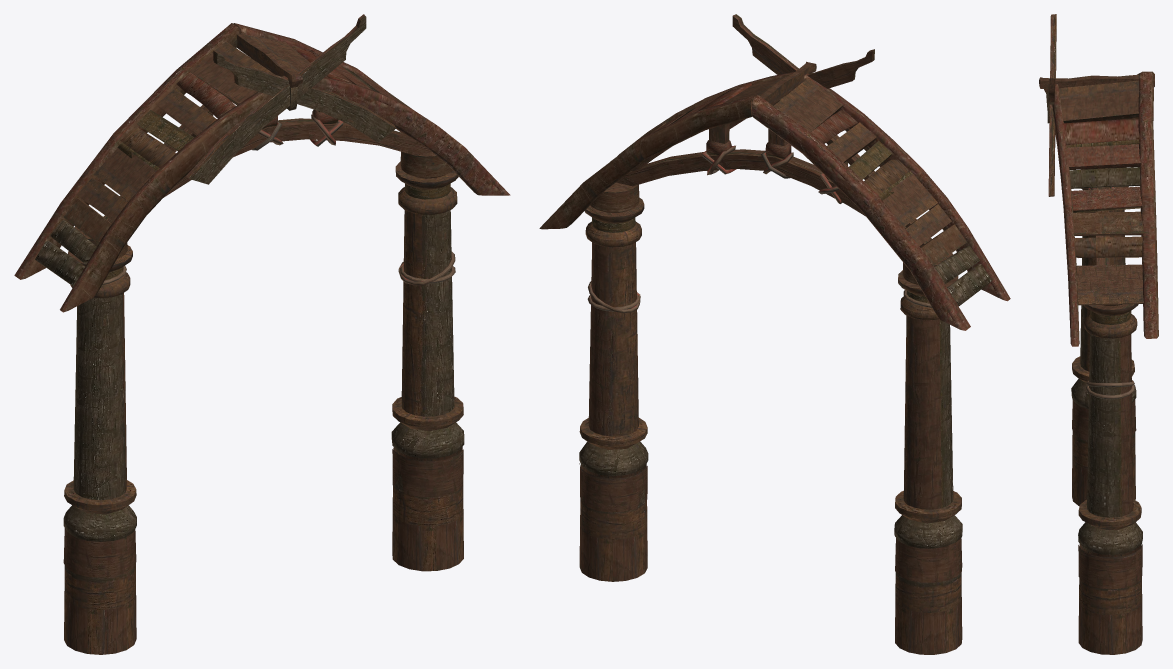
The model's file is VIK_PRO_Gate_Entrance_01A_LOD0-transformed.glb.
3 views of the same model, side by side, from view 1: azimuth 30°, elevation 25°; view 2: azimuth 150°, elevation 25°; view 3: azimuth 270°, elevation 25° (orthographic). The views are drawn at different scales.
Visible parts, largest first — view 1: default; view 2: default; view 3: default.
Part boxes in pixels (<box>): default: <box>14,14,510,654</box>; default: <box>539,14,1010,654</box>; default: <box>1039,14,1158,654</box>.
Size of the model in its own units: 4.41 by 5.44 by 1.13.
2 materials, 2 textured.
